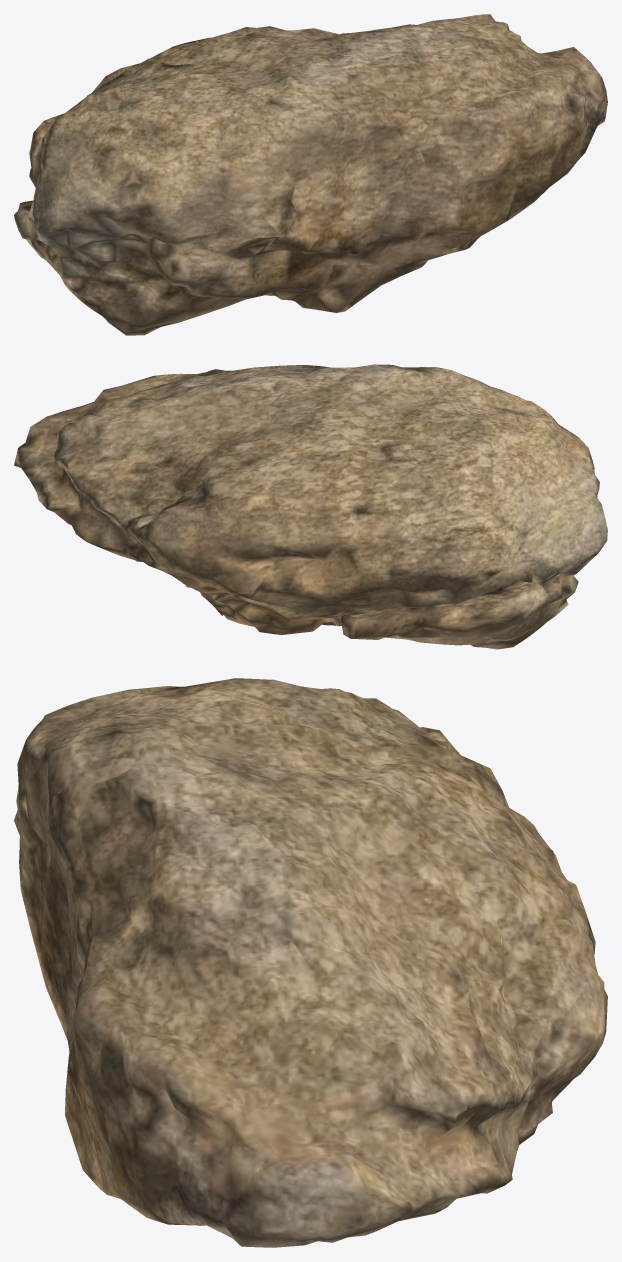
The model's file is namaqualand_boulder_05.glb.
The picture shows the model from 3 angles, top to bottom: view 1: azimuth 30°, elevation 25°; view 2: azimuth 150°, elevation 25°; view 3: azimuth 270°, elevation 25°; orthographic projection. The views are drawn at different scales.
Parts seen in each view (by area): view 1: namaqualand_boulder; view 2: namaqualand_boulder; view 3: namaqualand_boulder.
Boxes of the visible parts, x1,y1,x2,y2 form: namaqualand_boulder: (14,14,607,335); namaqualand_boulder: (14,364,607,649); namaqualand_boulder: (14,678,607,1247).
Bounding box in the file's own units: 1.36 × 0.5337 × 0.7462.
1 material, 1 textured.
